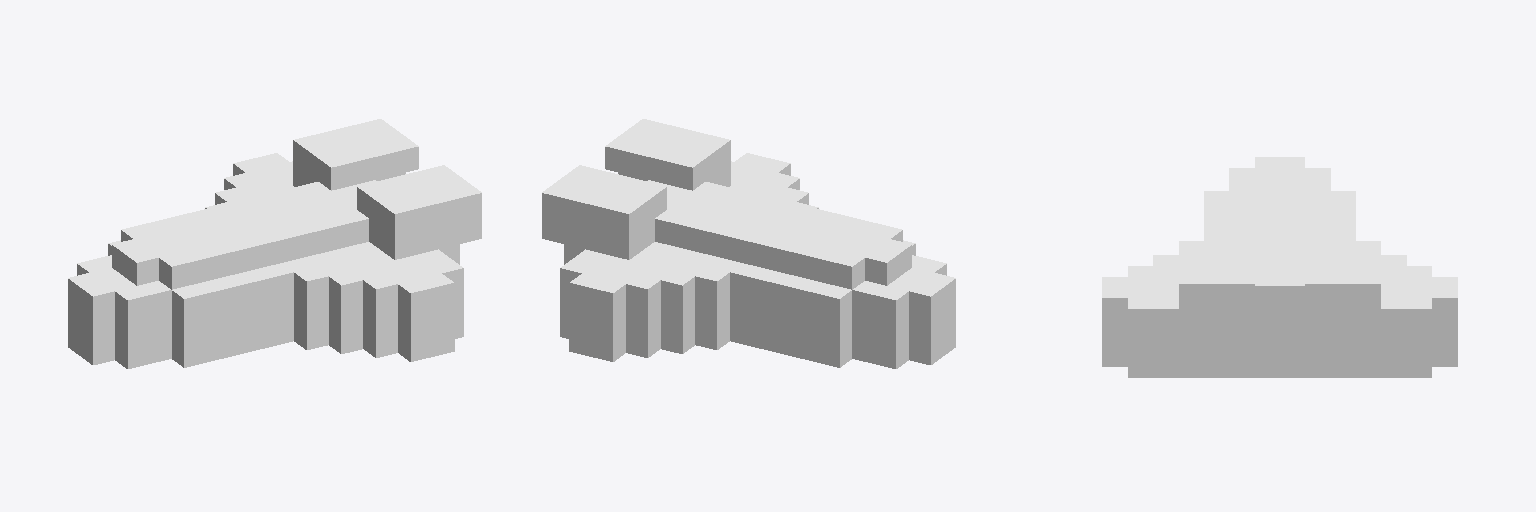
Rendered from spacevox.obj.
3 views of the same model, side by side, from view 1: azimuth 30°, elevation 25°; view 2: azimuth 150°, elevation 25°; view 3: azimuth 270°, elevation 25° (orthographic).
Parts seen in each view (by area): view 1: object 1; view 2: object 1; view 3: object 1.
Boxes of the visible parts, x1,y1,x2,y2 form: object 1: [68, 119, 481, 368]; object 1: [542, 119, 955, 368]; object 1: [1102, 157, 1457, 377].
Size of the model in its own units: 1.6 by 0.5 by 1.4.